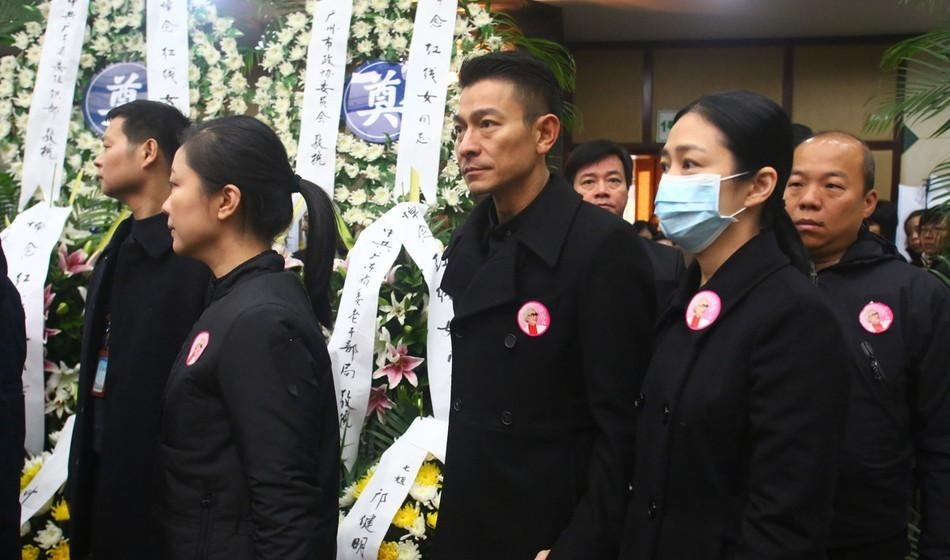Mask: (645, 137, 767, 259)
